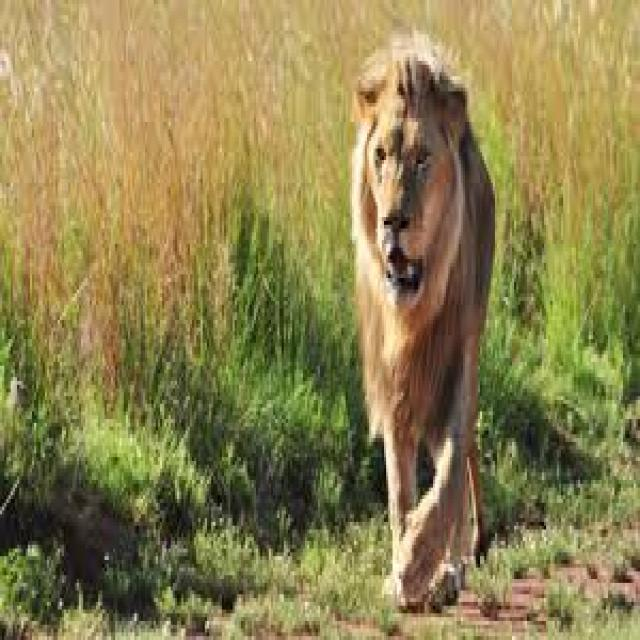Lion: (356, 40, 493, 610)
